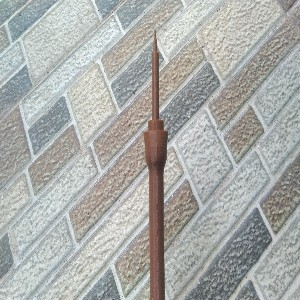solder: (144, 28, 169, 300)
